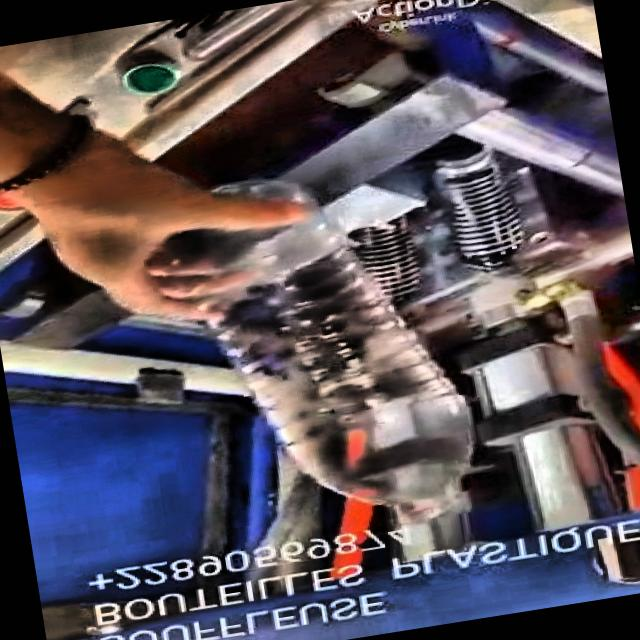plastic bottle: (169, 181, 472, 523)
